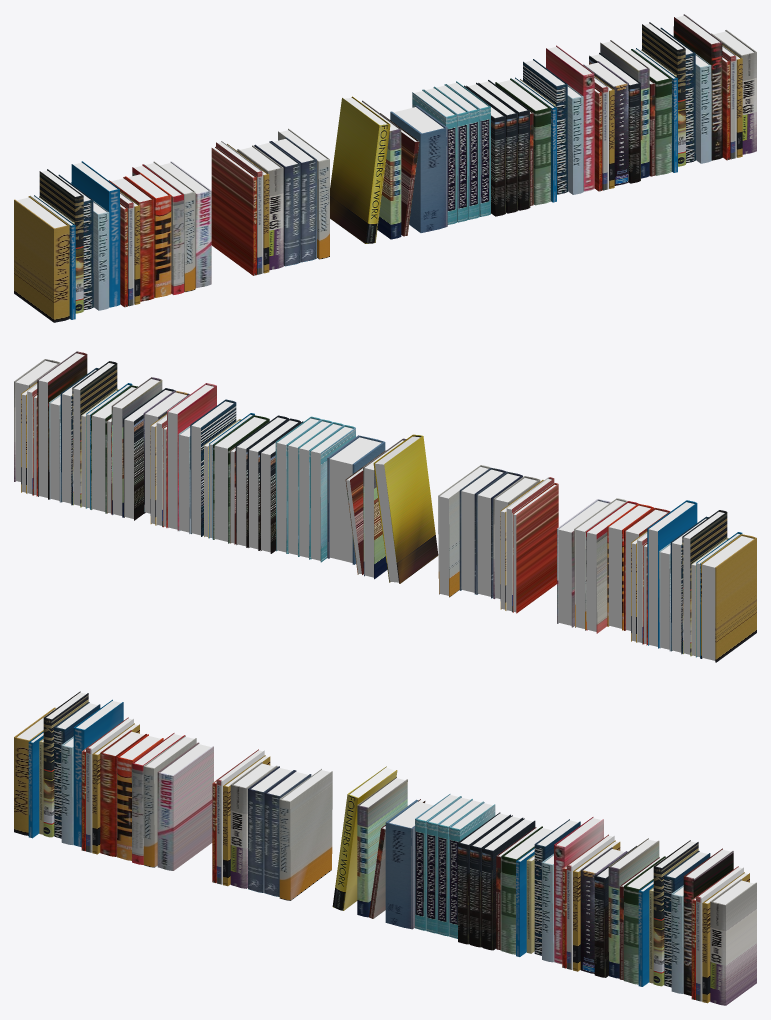
Rendered from books 5.FBX.
The picture shows the model from 3 angles, top to bottom: view 1: azimuth 30°, elevation 25°; view 2: azimuth 150°, elevation 25°; view 3: azimuth 330°, elevation 25°; orthographic projection.
Parts seen in each view (by area): view 1: books 5b, books 5; view 2: books 5, books 5b; view 3: books 5b, books 5.
Boxes of the visible parts, x1,y1,x2,y2 form: books 5b: (380, 14, 756, 236); books 5: (14, 96, 401, 322); books 5: (363, 434, 756, 662); books 5b: (14, 351, 385, 574); books 5b: (369, 794, 756, 1005); books 5: (14, 691, 407, 917).
Bounding box in the file's own units: 189 × 29.97 × 19.62.
1 material, 1 textured.
